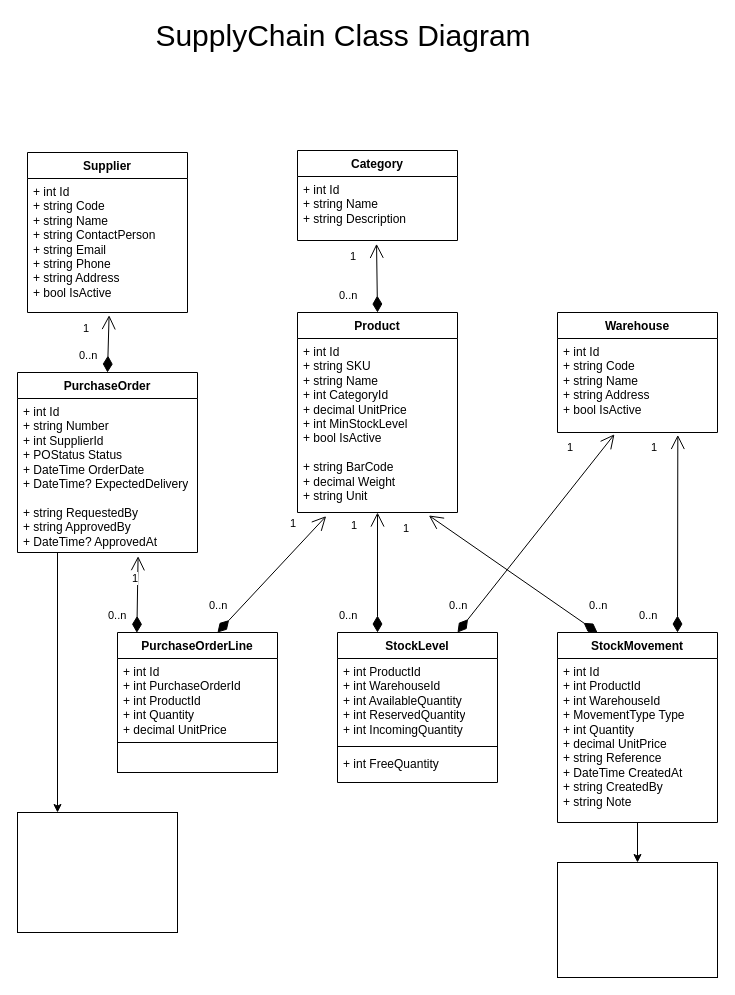
This 735x995 diagram has some shape labels left out. The shapes that lost their labels are listed below. From the top down, each one's centre as x and y in pixels, then its label:
At point 197,757: "+ decimal LineTotal".
At point 97,872: "<<enumeration>> POStatus Draft Approved Sent Received Closed".
At point 637,920: "<<enumeration>> MovementType In Out Transfer Adjustment".
